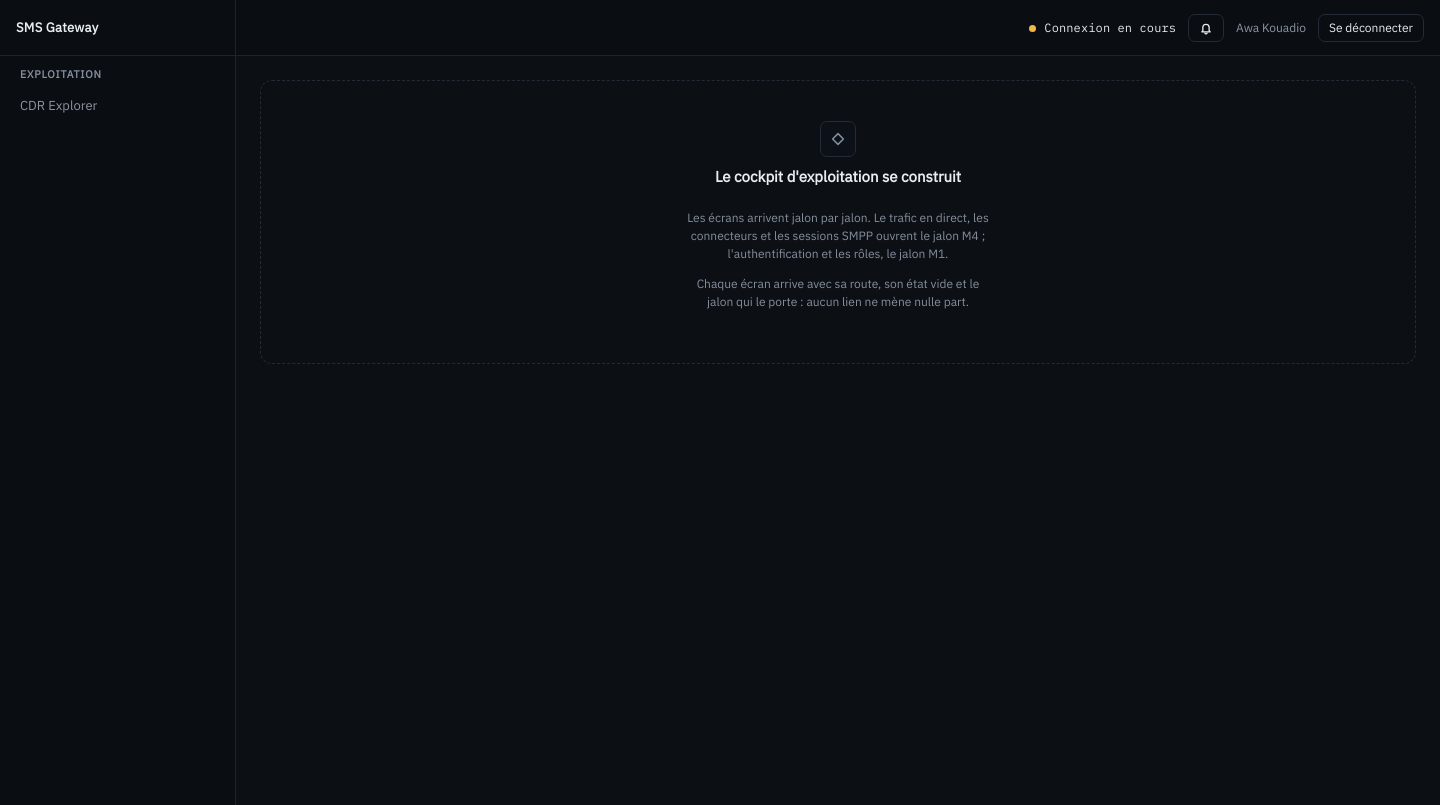
Scenario: the factor inventory › says what the account holds, and is reached through the operator’s name
The width and height of the screenshot is (1440, 805).
Click the link "Awa Kouadio".
click(1271, 28)  # box [1236, 18, 1306, 36]
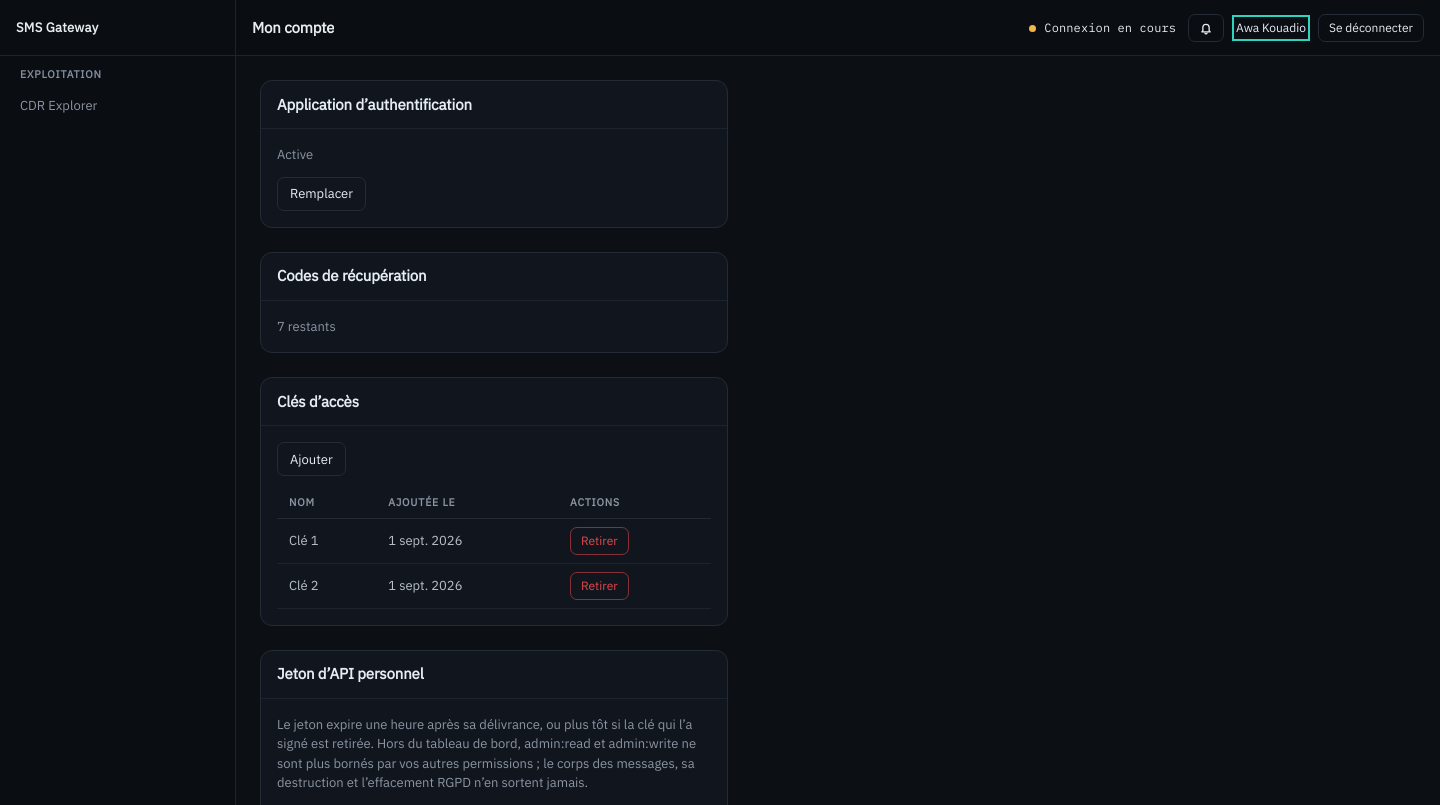
Check: the heading "Mon compte" is shown, box [252, 18, 334, 37]
Check: the text "Active" is shown, box [277, 146, 313, 163]
Check: the text "7 restants" is shown, box [277, 318, 336, 334]
